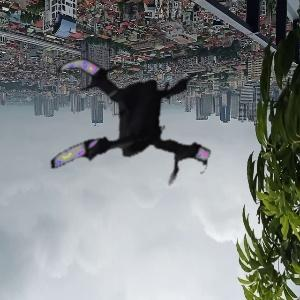drone: (40, 26, 236, 222)
